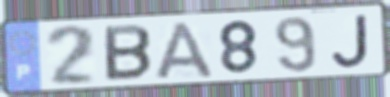2: (44, 24, 100, 89)
8: (217, 18, 260, 77)
9: (271, 14, 319, 75)
A: (153, 20, 217, 80)
B: (103, 23, 154, 84)
J: (330, 12, 372, 70)
